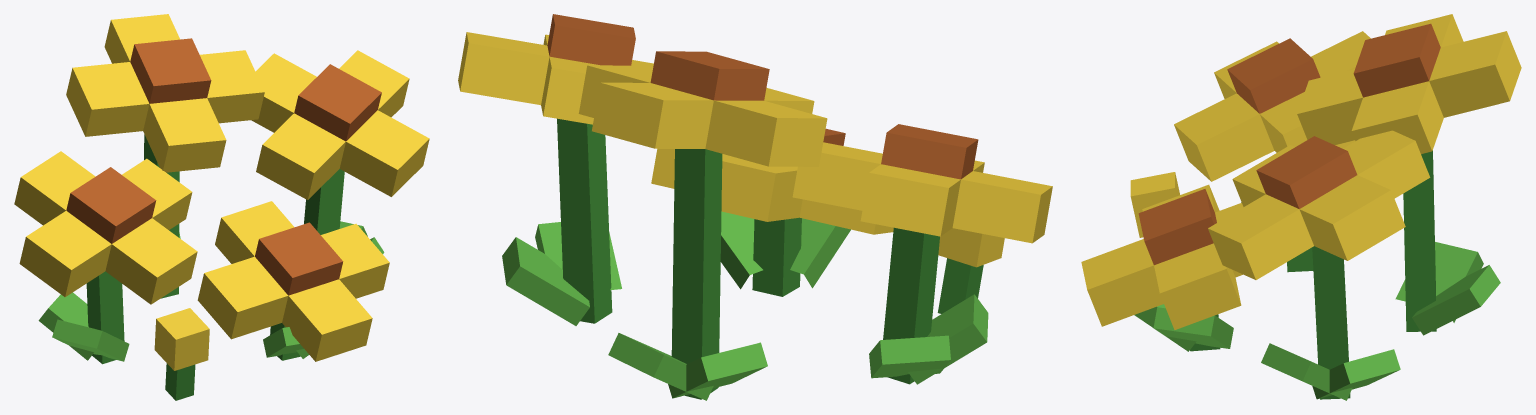
File: Lobby_FlowerYellow.glb
3 views of the same model, side by side, from view 1: azimuth 30°, elevation 25°; view 2: azimuth 150°, elevation 25°; view 3: azimuth 270°, elevation 25° (orthographic). The views are drawn at different scales.
Visible parts, largest first — view 1: FlowerYellow_Petals, FlowerYellow_Centres, FlowerYellow_Stems, FlowerYellow_Leaves; view 2: FlowerYellow_Petals, FlowerYellow_Stems, FlowerYellow_Leaves, FlowerYellow_Centres; view 3: FlowerYellow_Petals, FlowerYellow_Centres, FlowerYellow_Leaves, FlowerYellow_Stems.
Part boxes in pixels (x1,y1,x2,y2): FlowerYellow_Petals: (14,14,429,370); FlowerYellow_Centres: (66,38,381,295); FlowerYellow_Stems: (86,134,344,400); FlowerYellow_Leaves: (38,221,384,361); FlowerYellow_Petals: (458,32,1052,267); FlowerYellow_Stems: (557,118,983,399); FlowerYellow_Leaves: (502,211,988,400); FlowerYellow_Centres: (547,14,978,179); FlowerYellow_Petals: (1081,14,1521,329); FlowerYellow_Centres: (1138,23,1440,265); FlowerYellow_Leaves: (1134,202,1500,400); FlowerYellow_Stems: (1190,150,1436,399).
Size of the model in its own units: 0.5035 by 0.2981 by 0.4073.
